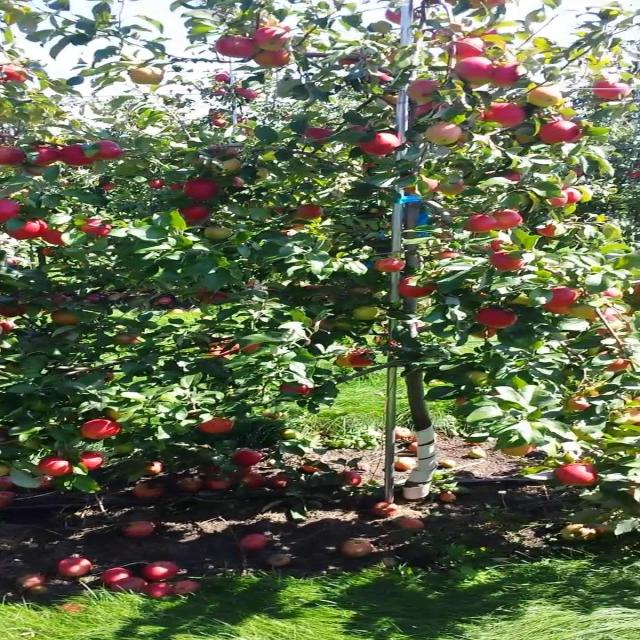apple: (212, 36, 258, 60), (554, 464, 599, 488), (540, 120, 585, 144), (483, 104, 526, 129), (362, 132, 405, 156), (589, 80, 633, 103), (397, 276, 439, 300), (476, 308, 519, 329), (547, 288, 580, 315), (490, 64, 526, 88), (6, 220, 48, 240), (454, 60, 496, 80), (63, 144, 98, 168), (426, 124, 464, 146), (525, 88, 565, 108), (447, 40, 489, 59), (255, 28, 293, 48), (184, 180, 220, 201), (490, 208, 526, 229), (84, 420, 121, 440), (596, 352, 633, 372), (490, 252, 526, 272), (404, 176, 441, 195), (127, 68, 165, 86), (412, 80, 441, 103), (604, 308, 633, 331), (547, 188, 580, 208), (255, 52, 292, 69), (205, 340, 238, 359), (28, 148, 62, 166), (433, 180, 469, 197), (198, 420, 235, 436), (177, 208, 213, 224), (540, 124, 567, 145), (42, 460, 75, 477), (568, 304, 599, 322), (412, 84, 441, 103), (99, 140, 126, 160), (84, 220, 114, 237), (468, 216, 498, 233), (383, 12, 421, 25), (6, 64, 30, 84), (348, 352, 377, 368), (504, 444, 539, 457), (84, 452, 107, 471), (305, 128, 334, 143), (433, 28, 464, 42), (298, 204, 325, 220), (42, 228, 66, 246), (490, 172, 526, 184), (412, 104, 439, 119), (6, 148, 27, 167), (205, 228, 235, 241), (234, 452, 263, 465), (376, 260, 405, 273), (355, 308, 384, 321), (604, 360, 633, 373), (284, 384, 315, 396), (532, 224, 560, 237), (383, 12, 411, 25), (568, 396, 590, 412), (404, 180, 427, 195), (468, 0, 508, 8), (340, 52, 361, 67), (56, 312, 80, 325), (348, 124, 372, 137), (220, 160, 244, 173), (6, 304, 28, 318), (6, 200, 21, 220), (284, 224, 306, 237), (604, 288, 624, 302), (625, 408, 639, 427), (476, 328, 498, 340), (241, 88, 263, 100), (284, 224, 306, 236), (148, 460, 164, 476), (575, 188, 592, 203), (468, 80, 491, 91), (383, 52, 404, 64), (241, 344, 263, 355), (333, 356, 352, 368), (454, 132, 471, 145), (220, 148, 242, 158), (383, 96, 402, 107), (490, 240, 507, 252), (376, 72, 393, 84), (568, 168, 588, 178), (120, 336, 142, 345), (35, 480, 53, 491), (212, 292, 231, 302), (582, 388, 603, 397), (440, 252, 460, 261), (156, 296, 176, 305), (262, 412, 284, 420), (49, 296, 71, 304), (234, 176, 247, 189), (198, 288, 213, 299), (319, 320, 334, 331), (49, 296, 69, 304), (148, 180, 165, 189), (454, 396, 469, 406), (28, 168, 46, 176), (518, 136, 533, 145), (170, 184, 185, 192), (6, 260, 21, 267), (42, 248, 55, 256), (6, 320, 14, 332)
